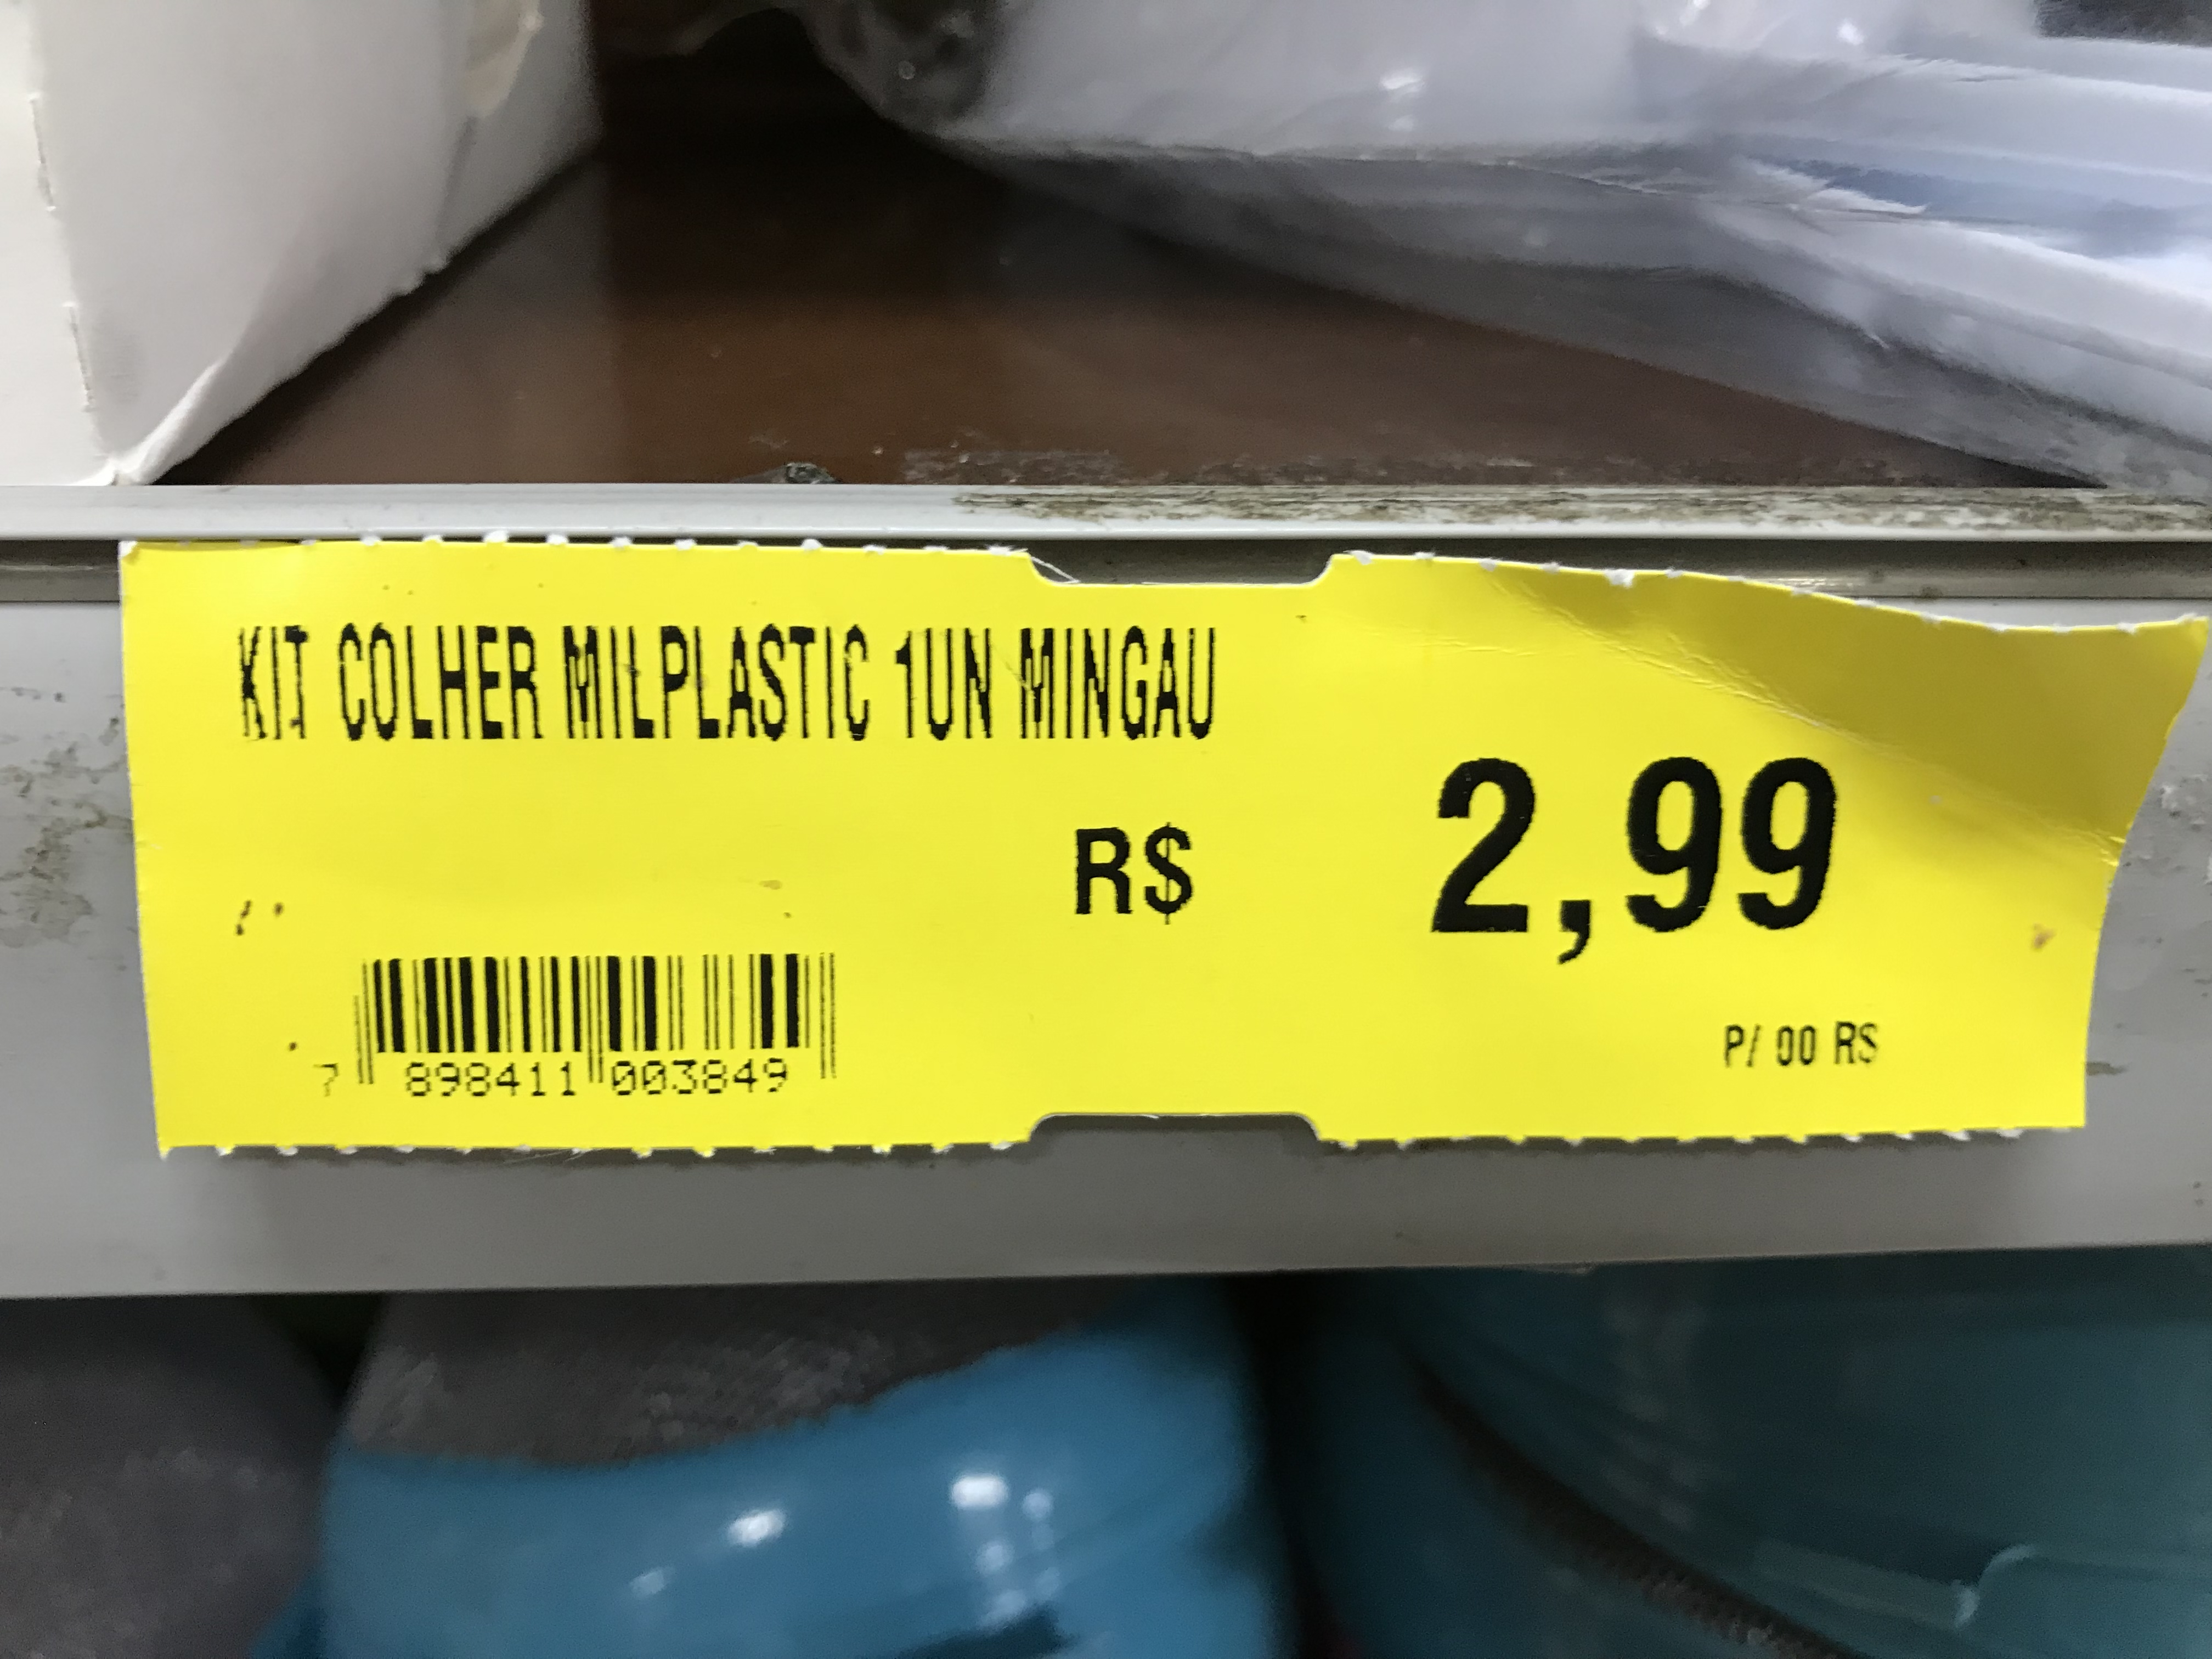estampa: (94, 516, 2210, 1161)
